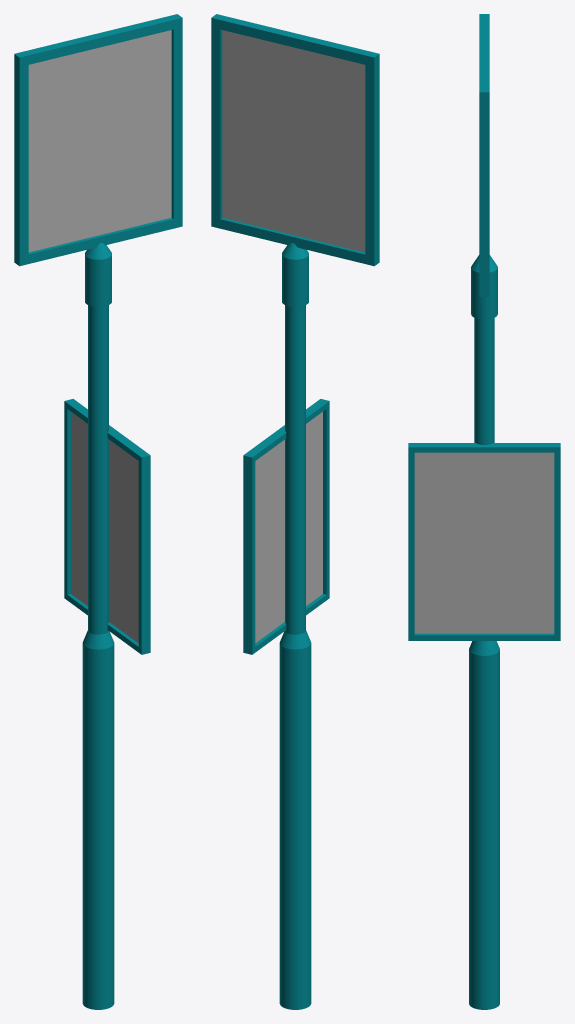
Rendered from nl_bus_sign_side.obj.
3 renders of one model, left to right at view 1: azimuth 30°, elevation 25°; view 2: azimuth 150°, elevation 25°; view 3: azimuth 270°, elevation 25°, orthographic.
Visible parts, largest first — view 1: cuboid, cylinder, cone; view 2: cuboid, cylinder, cone; view 3: cuboid, cylinder, cone.
Part boxes in pixels (<box>): cuboid: <box>14,14,182,654</box>; cylinder: <box>82,255,114,1009</box>; cone: <box>82,235,114,649</box>; cuboid: <box>211,14,379,654</box>; cylinder: <box>279,255,311,1009</box>; cone: <box>279,235,311,649</box>; cuboid: <box>408,14,560,640</box>; cylinder: <box>469,268,499,1009</box>; cone: <box>469,255,499,655</box>.
Bounding box in the file's own units: 0.5625 × 3.19 × 0.4625.
1 material, 1 textured.
